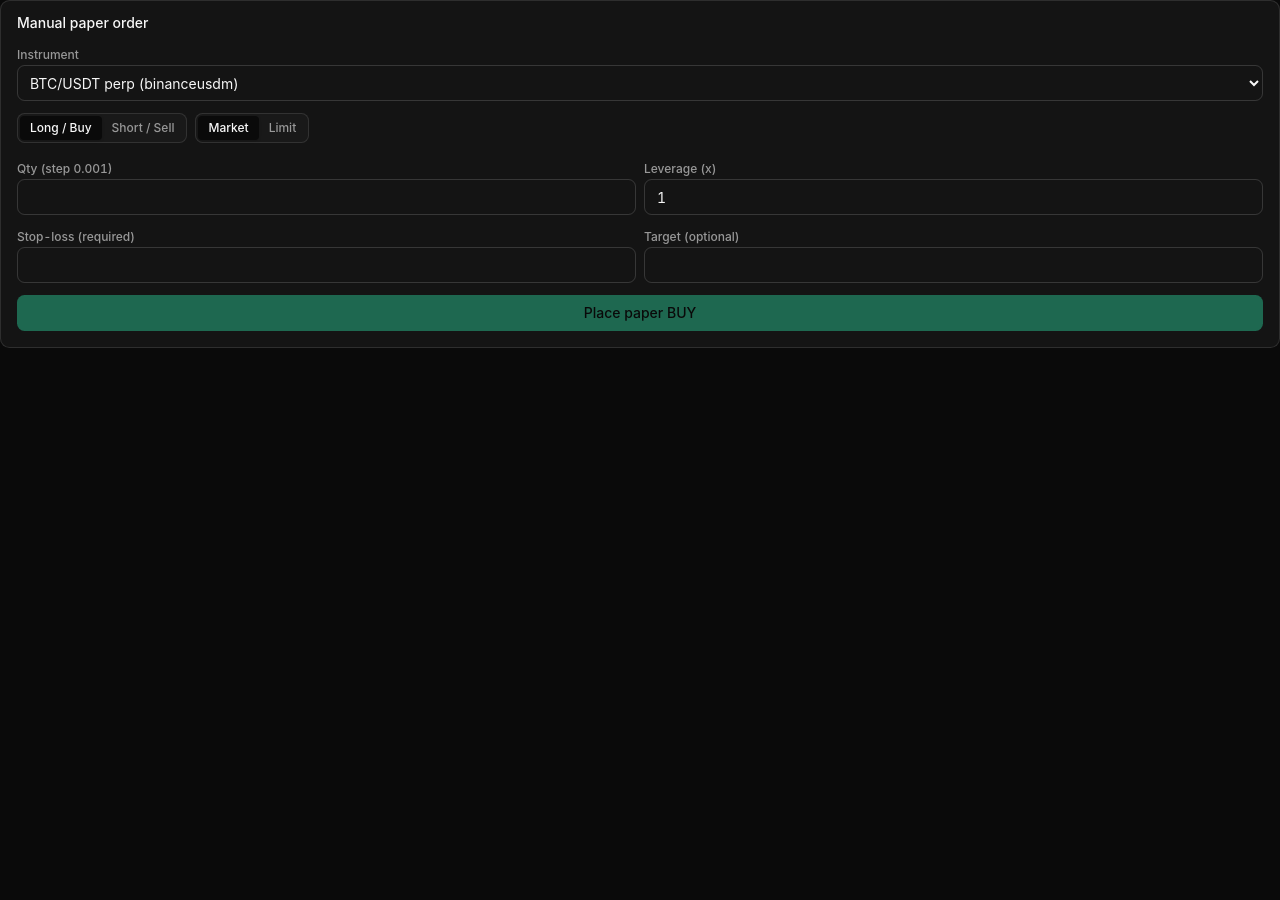
OrderPanel › keeps the ticket filled in when risk blocks the order
Type "0.005" into the field labelled "Qty (step 0.001)" at (326, 197), box [17, 179, 636, 215]
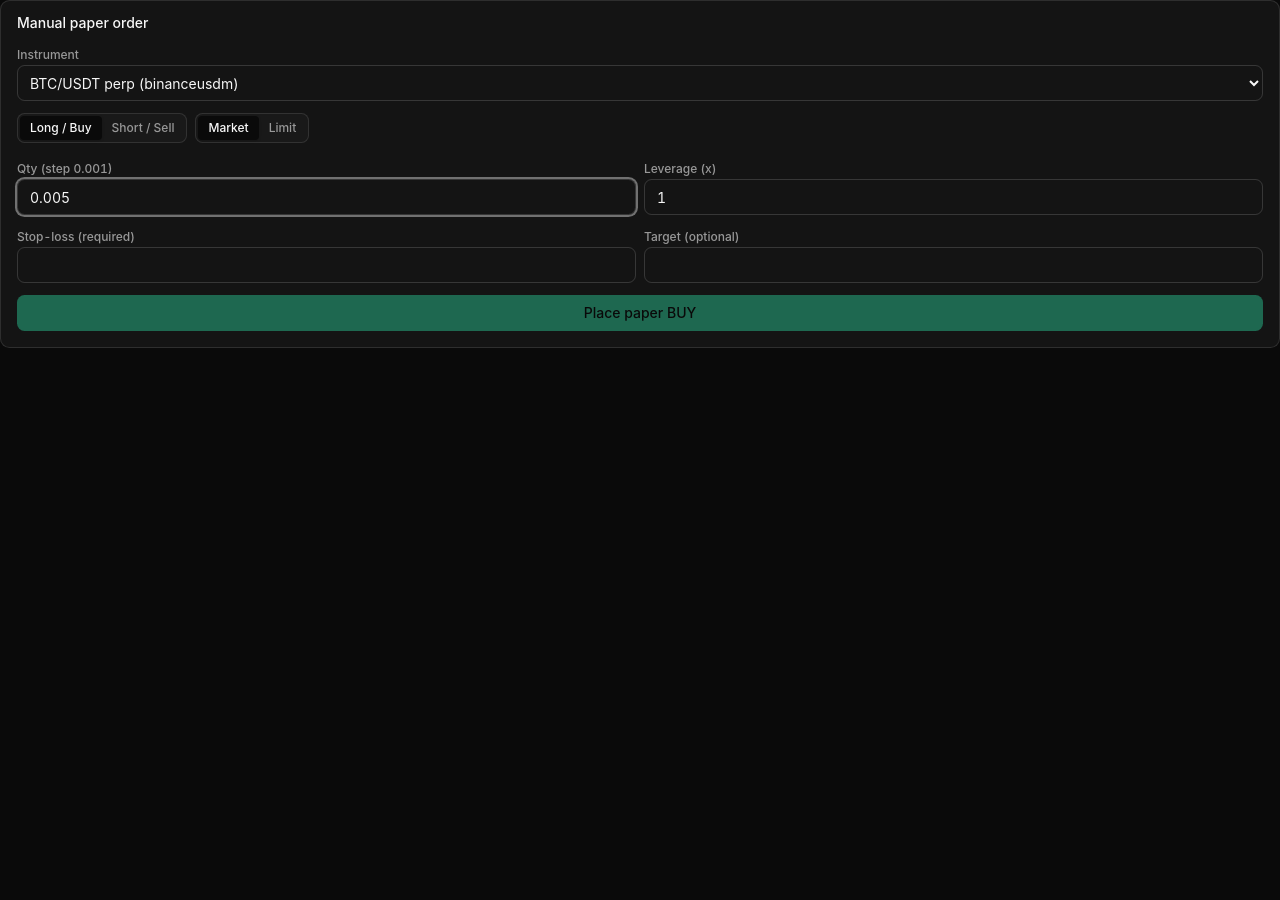
Type "64000" into the field labelled "Stop-loss (required)" at (326, 265), box [17, 247, 636, 283]
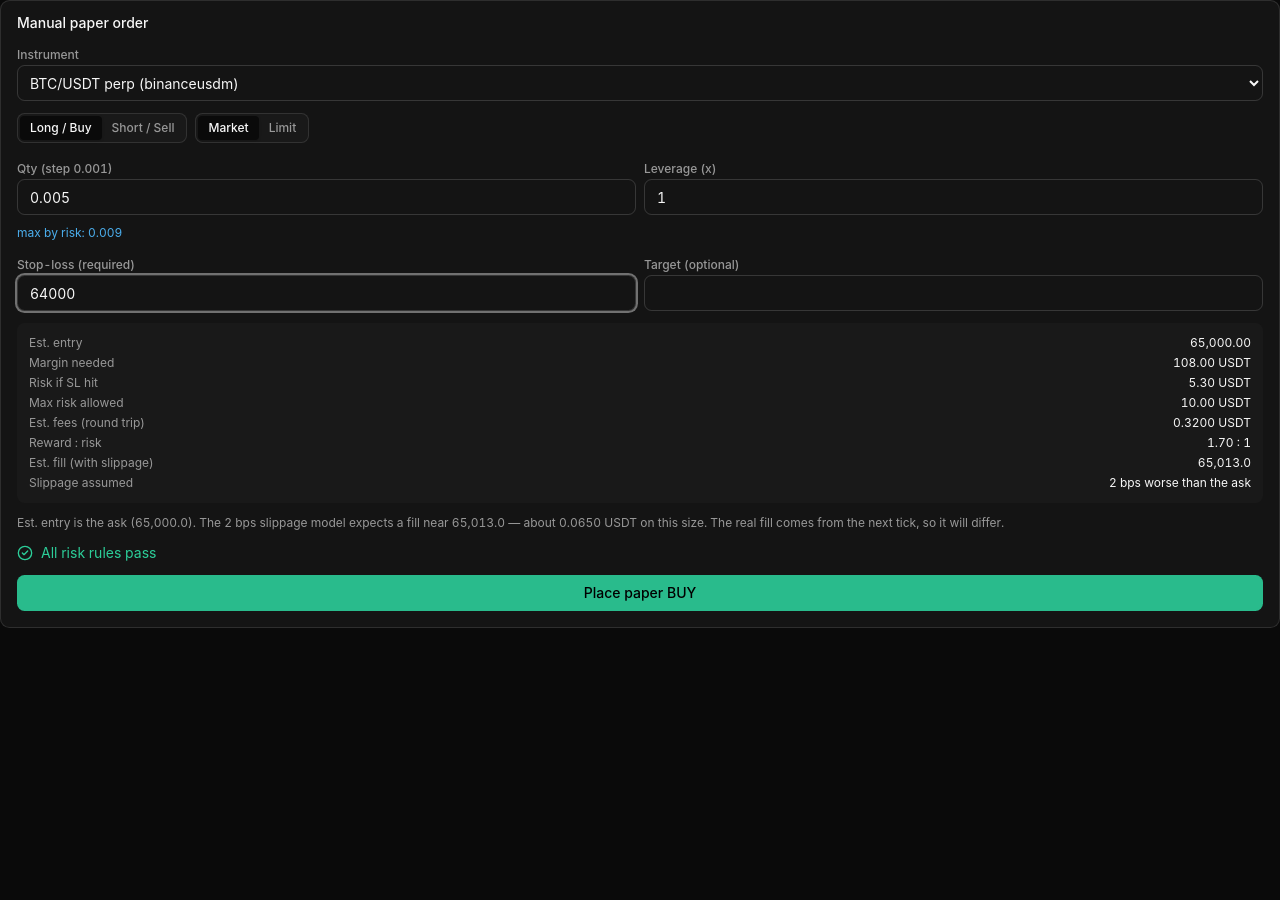
Expected: the button "Place paper BUY" is enabled
Click the button "Place paper BUY" at (640, 593), box [17, 575, 1263, 611]
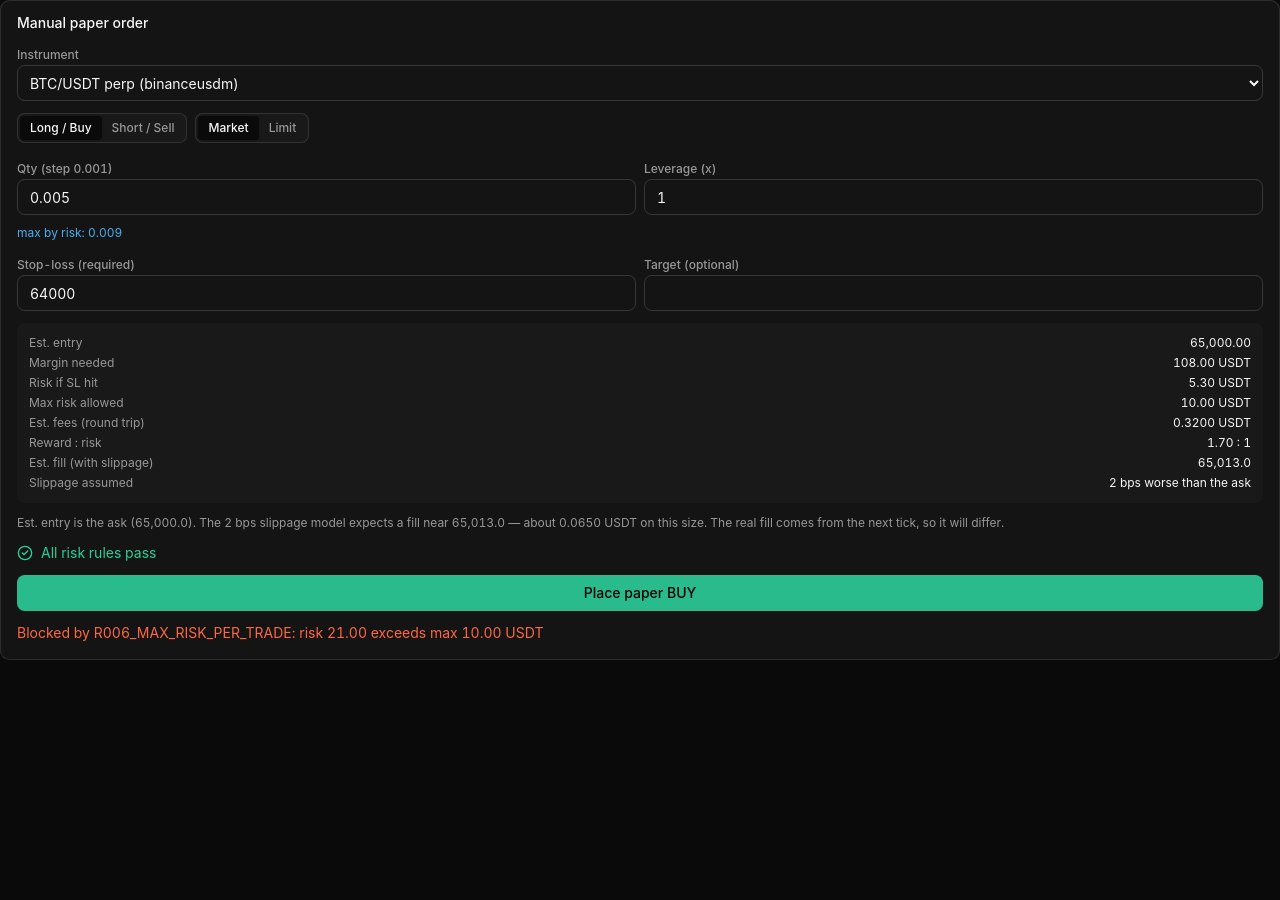
Expected: the message with test id "order-result" shows "Blocked by R006_MAX_RISK_PER_TRADE", [17, 624, 543, 641]
